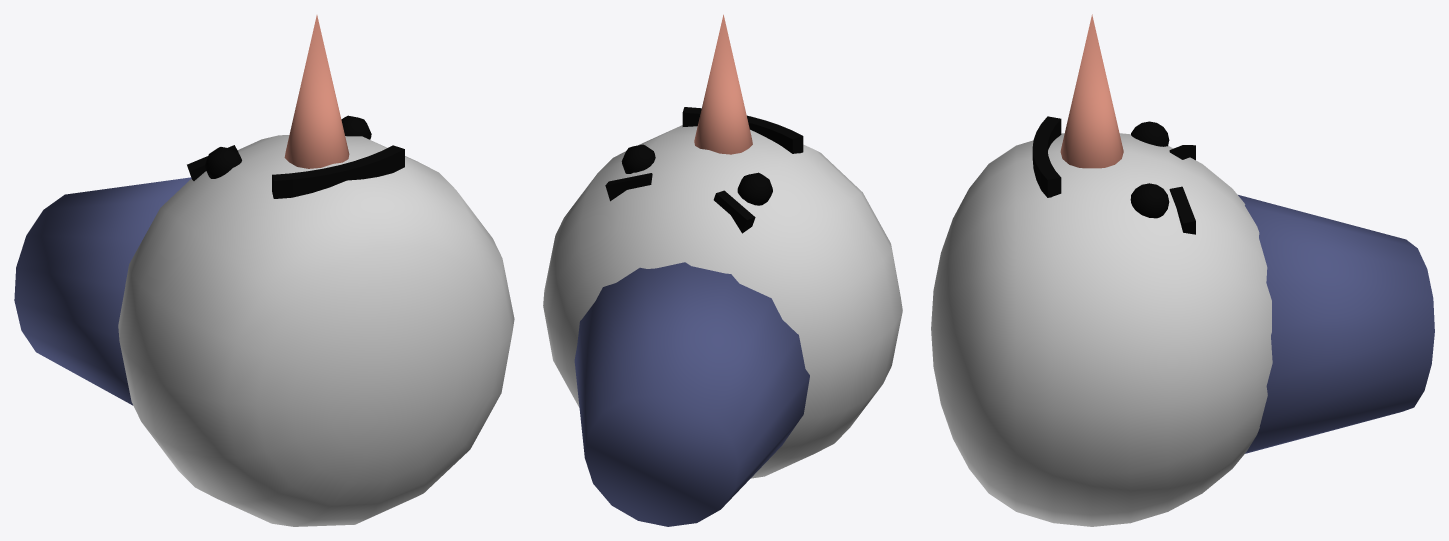
The model's file is SnowmanHead.fbx.
3 renders of one model, left to right at view 1: azimuth 30°, elevation 25°; view 2: azimuth 150°, elevation 25°; view 3: azimuth 270°, elevation 25°, orthographic. The views are drawn at different scales.
Parts seen in each view (by area): view 1: SnowmanHead; view 2: SnowmanHead; view 3: SnowmanHead.
Boxes of the visible parts, x1,y1,x2,y2 form: SnowmanHead: (14,15,514,526); SnowmanHead: (543,14,902,526); SnowmanHead: (931,14,1434,526).
Size of the model in its own units: 100 by 138 by 127.
